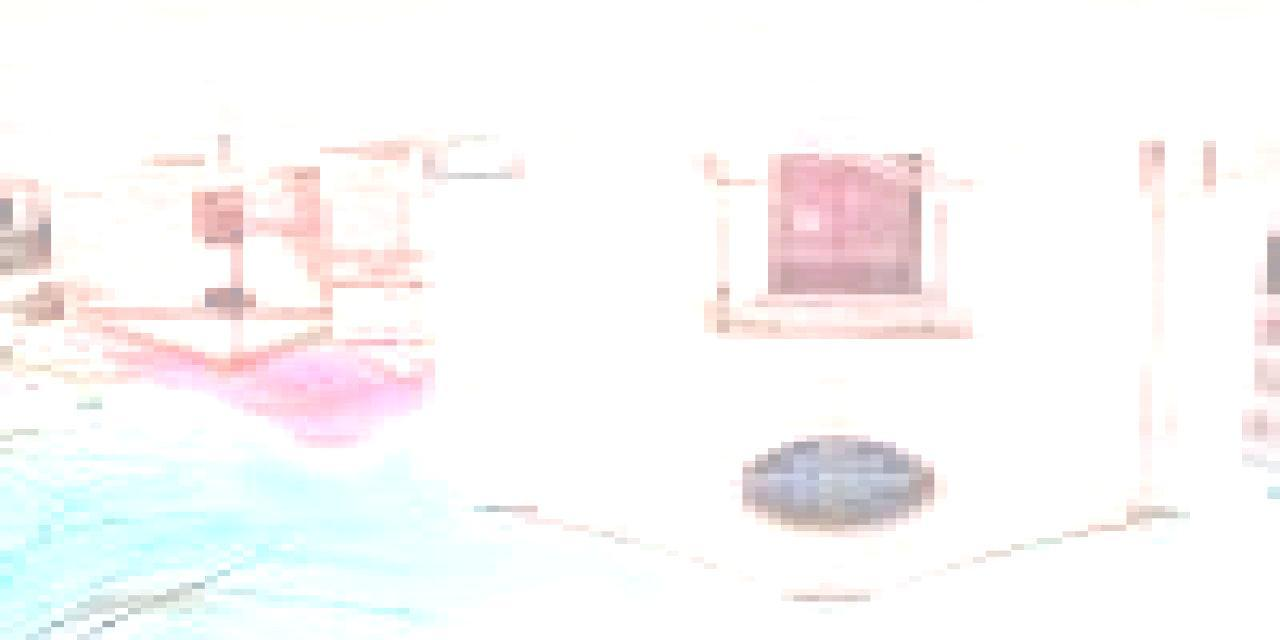Agia Aikaterini: (16, 138, 1279, 615)
